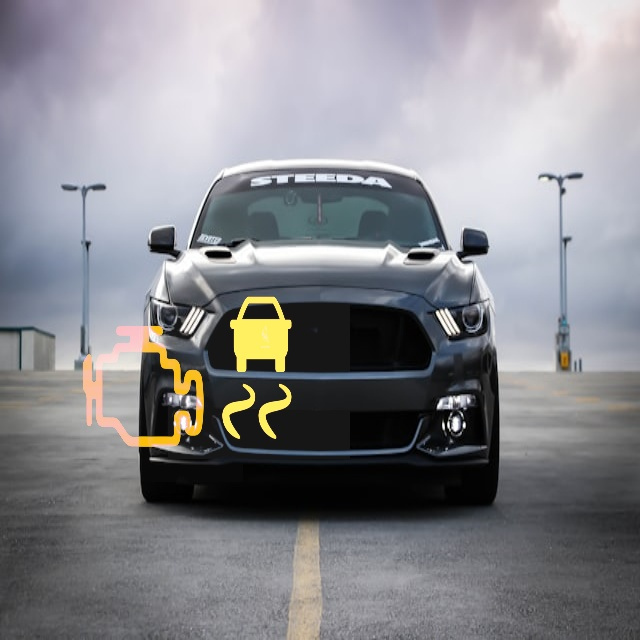symbol: (42, 281, 243, 482), (168, 277, 350, 459)
